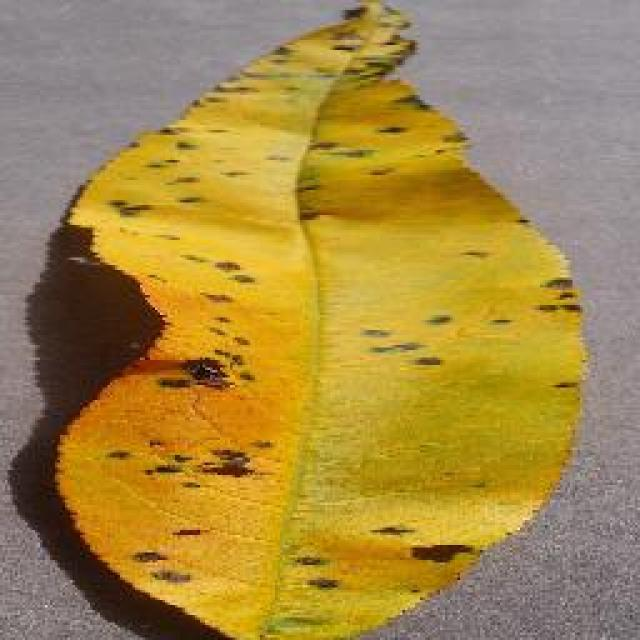Peach_Bacterial_Spot: (78, 98, 485, 512)
